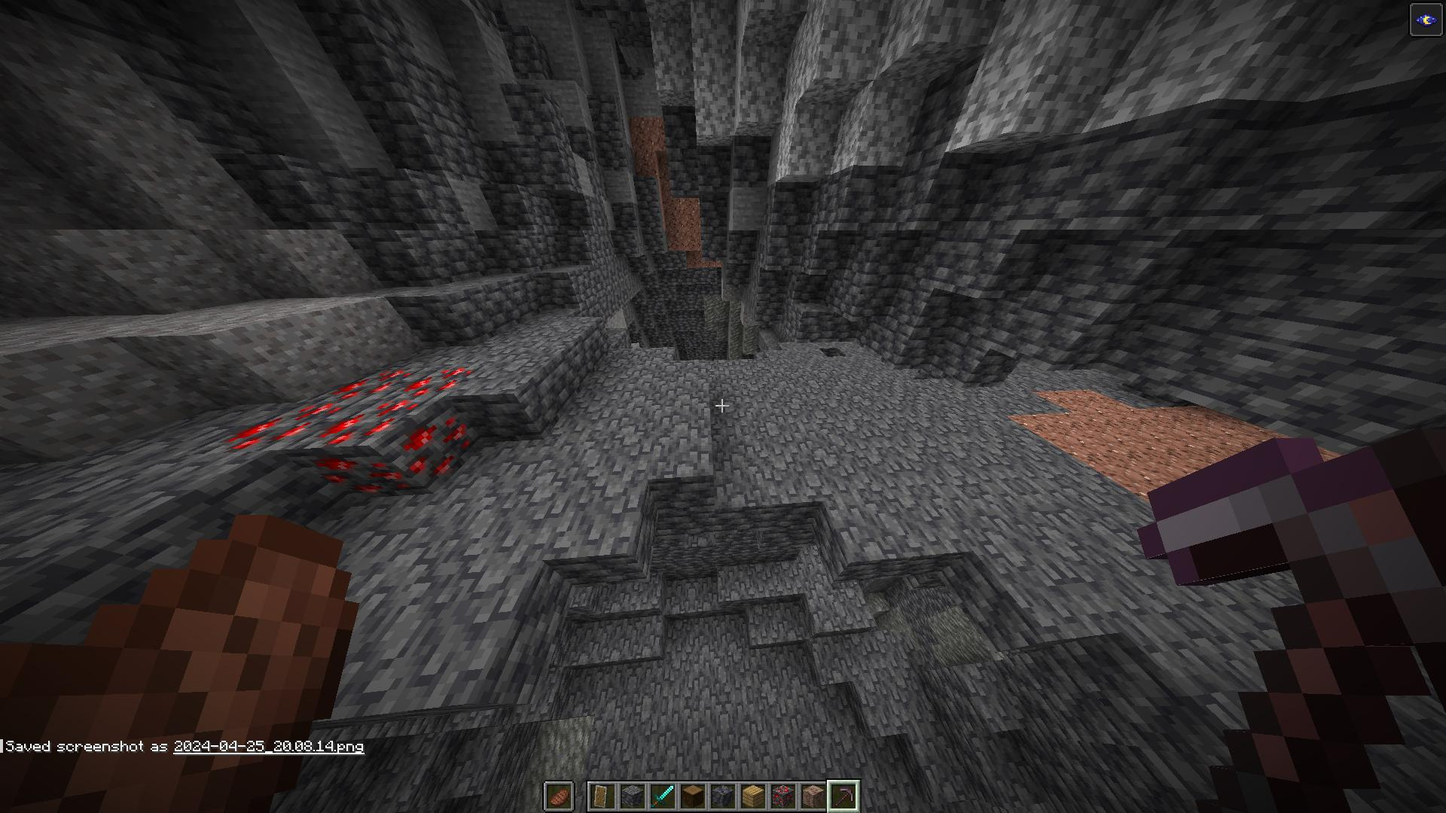redstone ore: (246, 358, 473, 495)
